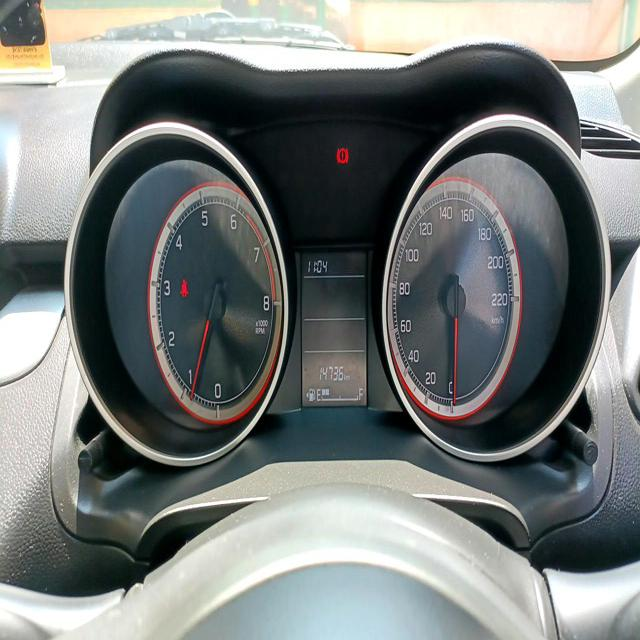odometer: (319, 365, 345, 383)
